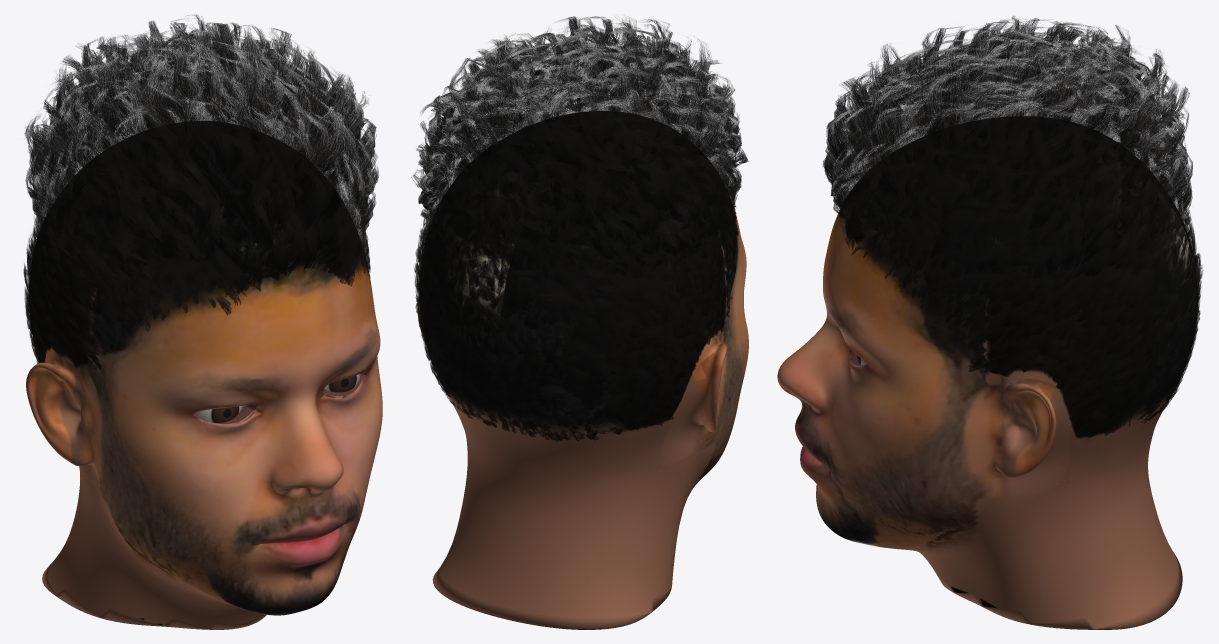
Rendered from digital_double.glb.
The picture shows the model from 3 angles, left to right: view 1: azimuth 30°, elevation 25°; view 2: azimuth 150°, elevation 25°; view 3: azimuth 270°, elevation 25°; orthographic projection. The views are drawn at different scales.
Parts seen in each view (by area): view 1: Web_Head, Web_Hair, Web_Eye_L; view 2: Web_Hair, Web_Head; view 3: Web_Head, Web_Hair.
Part boxes in pixels (x1,y1,x2,y2): Web_Head: (26,121,382,629); Web_Hair: (23,14,378,370); Web_Eye_L: (195,405,242,422); Web_Hair: (411,16,748,441); Web_Head: (417,111,748,629); Web_Head: (777,116,1197,629); Web_Hair: (823,16,1203,437).
Size of the model in its own units: 0.1406 by 0.2313 by 0.1658.
5 materials, 3 textured.
